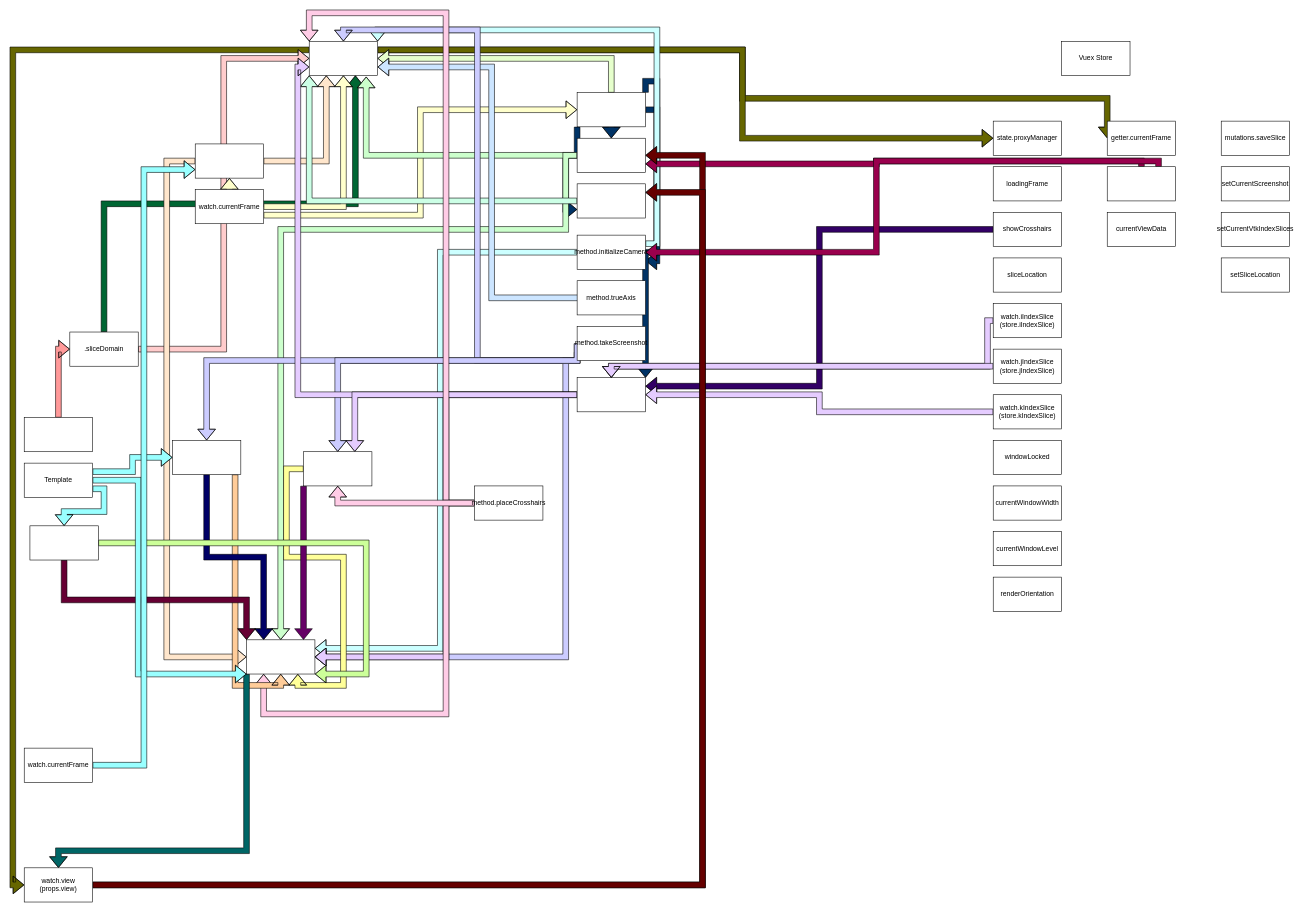
Image size: 1304x912. Some labels were removed from this diagram. Each missing label, with the box of its shape:
.ijkName: (303, 451, 372, 486)
.keyboardBindings: (29, 525, 98, 560)
.name: (246, 639, 315, 674)
.representation: (309, 41, 378, 76)
currentScan: (1107, 166, 1176, 201)
displayName: (172, 440, 241, 475)
method.initializeSlice: (577, 138, 646, 172)
method.initializeView: (577, 183, 646, 218)
method.prepareViewer: (577, 92, 646, 127)
method.updateCrosshairs: (577, 377, 646, 412)
v-slider: (24, 417, 93, 452)
watch.slice (data.slice): (195, 143, 264, 178)
